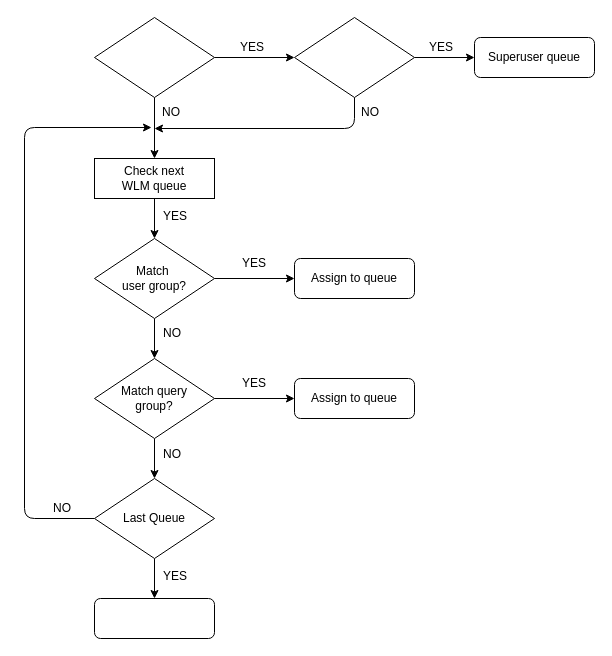
Image size: 612x656. Some labels were removed from this diagram. Here are the shapes that lost their labels. From the top down, the centre of each, then its label:
[154,57]: Superuser?
[354,57]: Query group =supeeruser?
[154,618]: Assign to default queue
